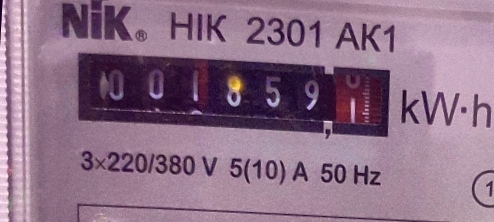0: (105, 66, 126, 102), (144, 66, 166, 100)
1: (188, 67, 201, 103), (345, 93, 359, 124)
5: (261, 72, 283, 109)
8: (222, 72, 244, 108)
9: (300, 76, 321, 111)
screen: (62, 39, 402, 147)
